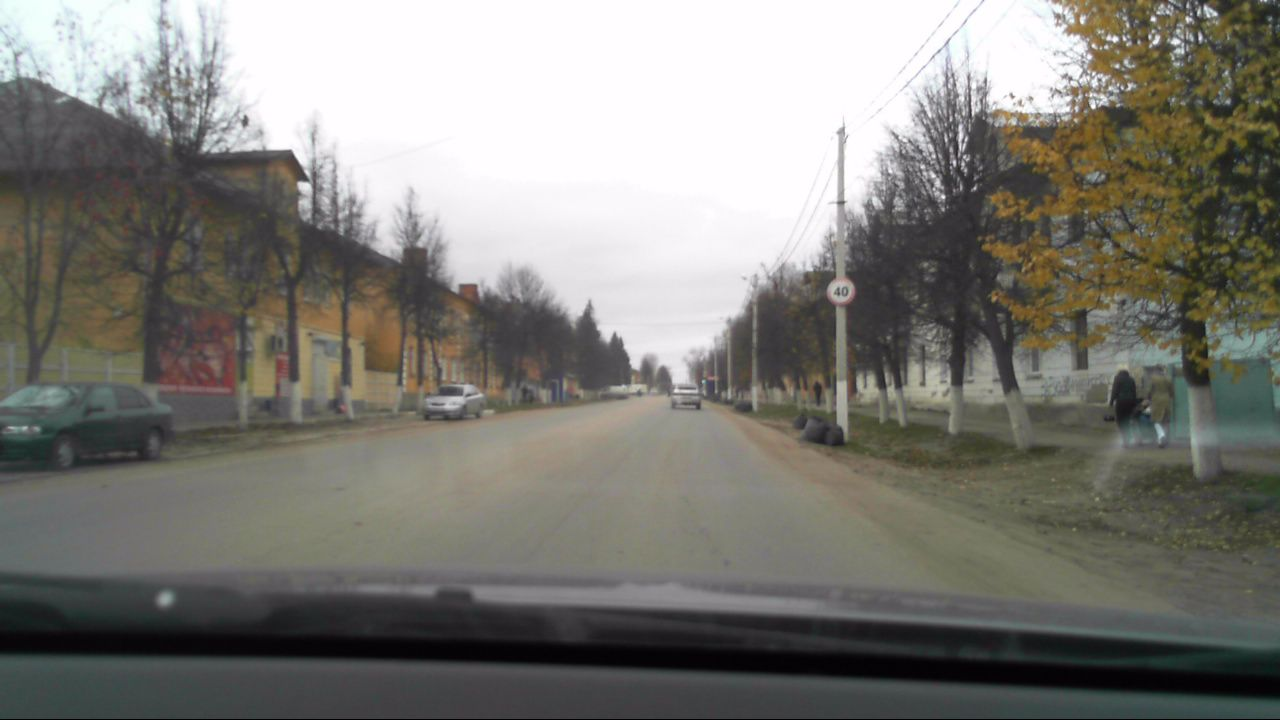speed_warning_40: (826, 279, 853, 305)
